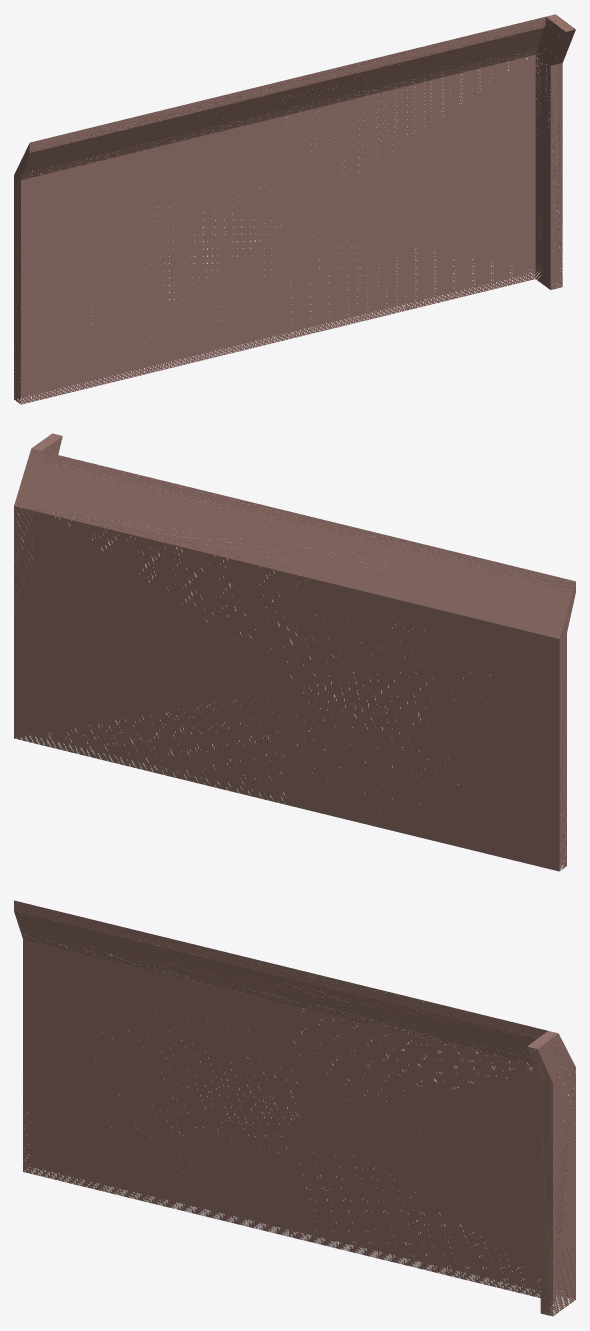
The model's file is SW_ENV_OpenTunnel_TrackRise_Single_End_WireFence_Collision.fbx.
3 renders of one model, top to bottom at view 1: azimuth 30°, elevation 25°; view 2: azimuth 150°, elevation 25°; view 3: azimuth 330°, elevation 25°, orthographic. The views are drawn at different scales.
Visible parts, largest first — view 1: SW_ENV_OpenTunnel_TrackRise_Single_End_WireFence_Collision; view 2: SW_ENV_OpenTunnel_TrackRise_Single_End_WireFence_Collision; view 3: SW_ENV_OpenTunnel_TrackRise_Single_End_WireFence_Collision.
Part boxes in pixels (bbox=[...]): SW_ENV_OpenTunnel_TrackRise_Single_End_WireFence_Collision: bbox=[14, 14, 575, 404]; SW_ENV_OpenTunnel_TrackRise_Single_End_WireFence_Collision: bbox=[14, 433, 575, 871]; SW_ENV_OpenTunnel_TrackRise_Single_End_WireFence_Collision: bbox=[14, 900, 575, 1316].
Bounding box in the file's own units: 491 × 239 × 58.41.
